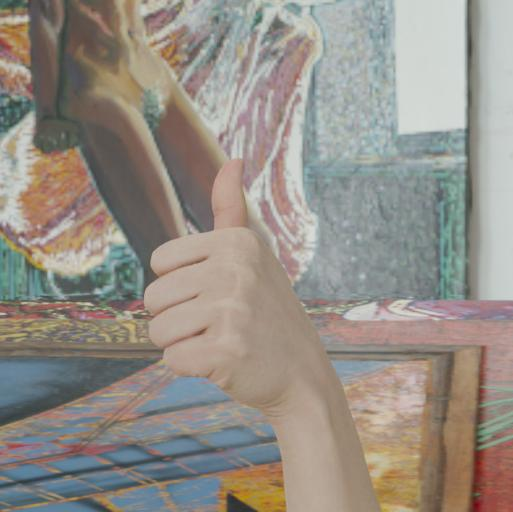thumbs-up: (0, 0, 39, 146)
